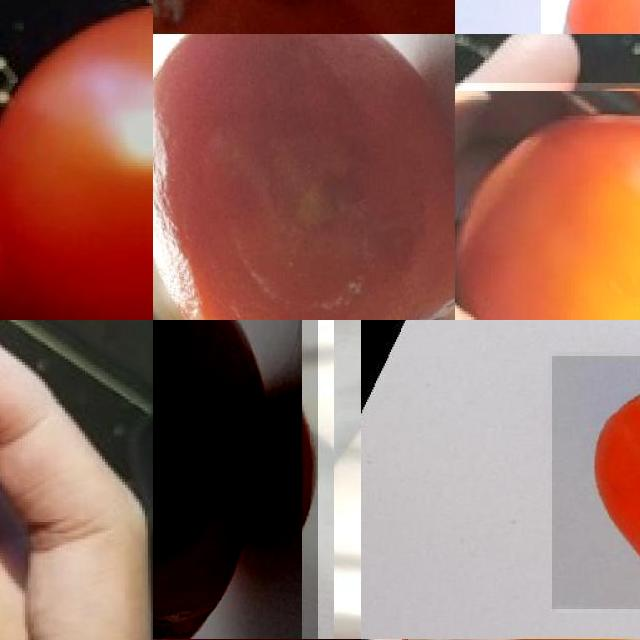0: (455, 82, 640, 320), (552, 356, 640, 609)
1: (153, 34, 455, 320), (153, 320, 318, 639)
Fresh Tomato: (0, 0, 153, 320)
